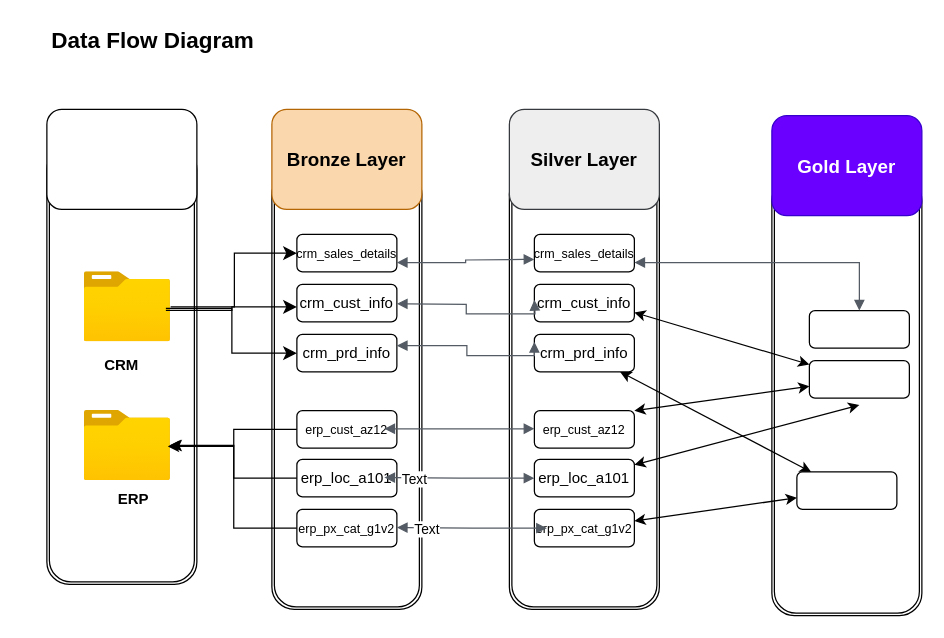
The diagram is 944 pixels wide and 638 high, and some of its shapes have lost their labels. Here are the shapes that lost their labels. From the top down, the box of each, then its label:
(46, 108, 197, 209): Source
(808, 309, 909, 348): fact_sales
(808, 359, 909, 398): dim_customers
(796, 471, 897, 509): dim_products
